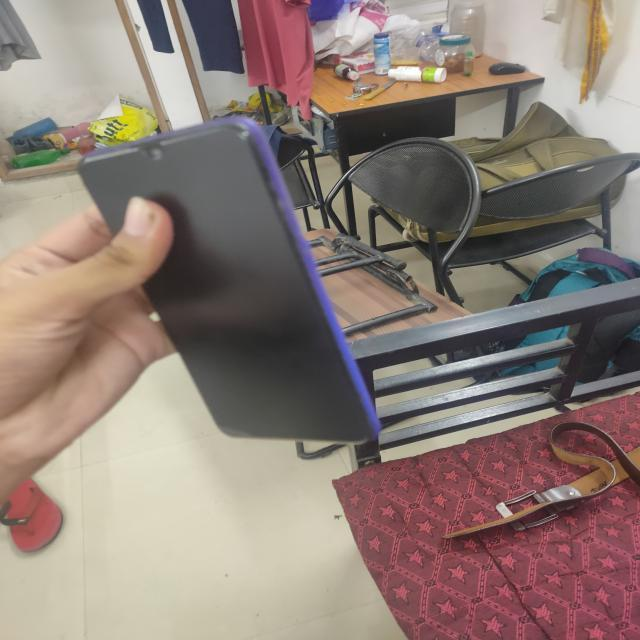Phone: (76, 118, 385, 442)
